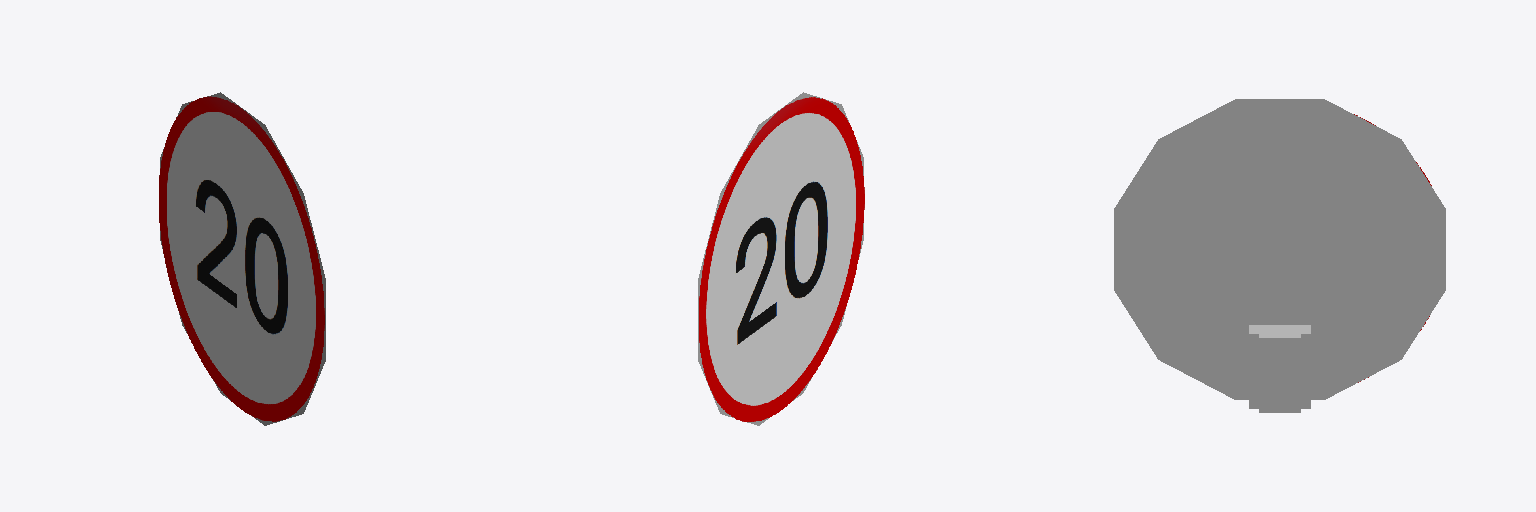
The picture shows the model from 3 angles: view 1: azimuth 30°, elevation 25°; view 2: azimuth 150°, elevation 25°; view 3: azimuth 270°, elevation 25°; orthographic projection.
Visible parts, largest first — view 1: cube, circle; view 2: cube, circle; view 3: circle, cube.
Part boxes in pixels (left/top/right/bottom): cube: left=159, top=96, right=324, bottom=421; circle: left=160, top=92, right=325, bottom=425; cube: left=699, top=97, right=864, bottom=421; circle: left=698, top=92, right=863, bottom=425; circle: left=1114, top=99, right=1445, bottom=399; cube: left=1249, top=114, right=1431, bottom=412.
Bounding box in the file's own units: 0.0484 × 0.5 × 0.5.
Materials: 2 (1 with a texture image).